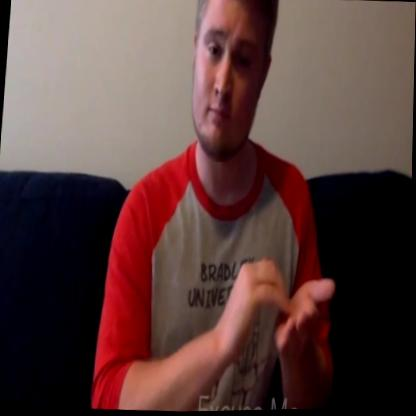ExcuseMe: (211, 243, 346, 390)
